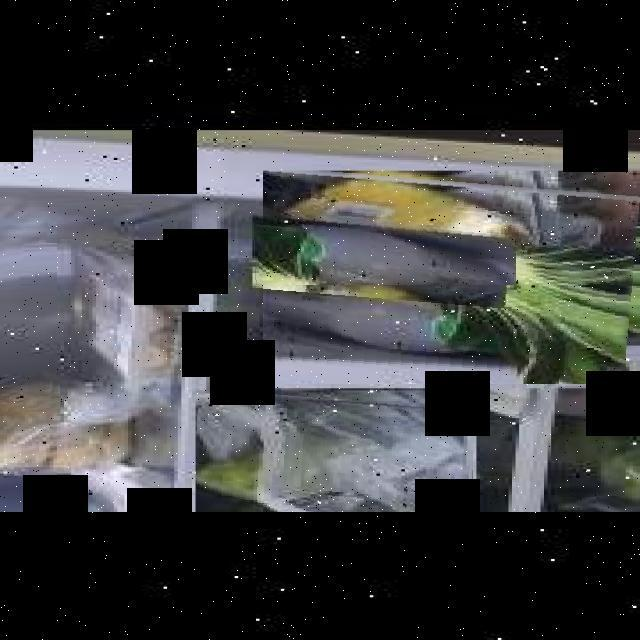banana: (0, 211, 50, 288), (0, 243, 57, 299), (0, 282, 57, 314)
broccoli: (196, 388, 477, 512)
milk: (252, 212, 516, 285), (0, 350, 60, 412), (0, 354, 57, 414)
pineapple: (263, 166, 640, 384)
salad: (576, 418, 640, 512)
